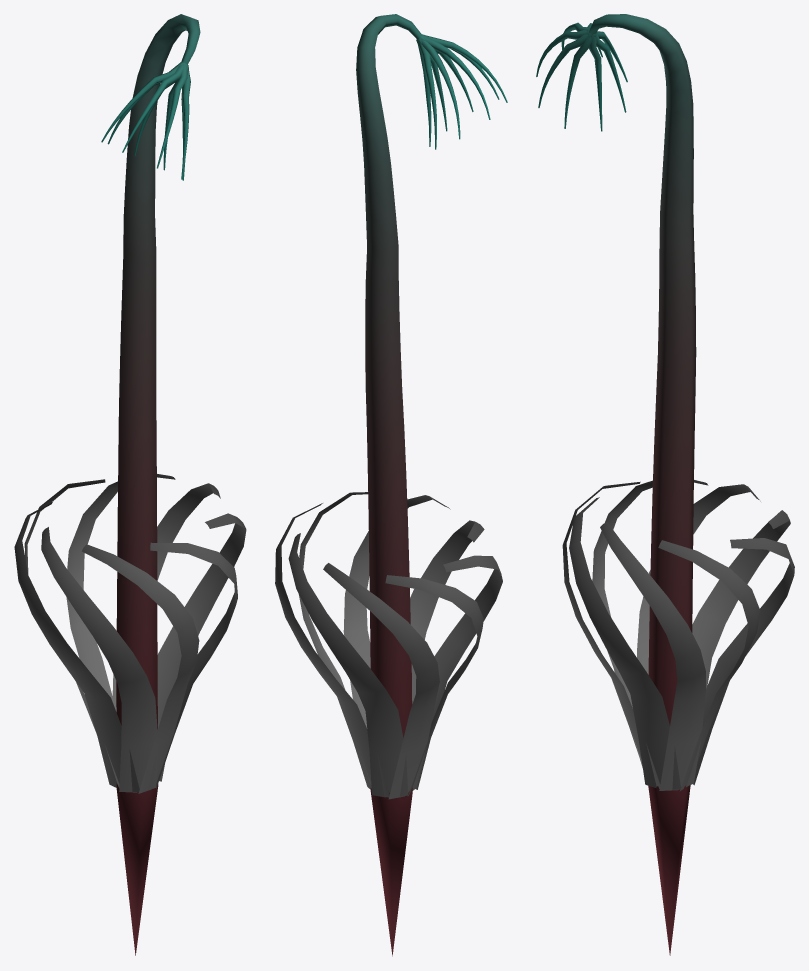
Rendered from plants-leafy-plants-curly-sprout_v4.glb.
3 views of the same model, side by side, from view 1: azimuth 30°, elevation 25°; view 2: azimuth 150°, elevation 25°; view 3: azimuth 270°, elevation 25° (orthographic). The views are drawn at different scales.
Visible parts, largest first — view 1: Curly Sprout_v4; view 2: Curly Sprout_v4; view 3: Curly Sprout_v4.
Boxes of the visible parts, box(x1,y1,x2,y2) form: Curly Sprout_v4: box(14, 14, 246, 955); Curly Sprout_v4: box(275, 14, 507, 956); Curly Sprout_v4: box(536, 14, 794, 955).
Bounding box in the file's own units: 0.1097 × 0.5 × 0.1222.
